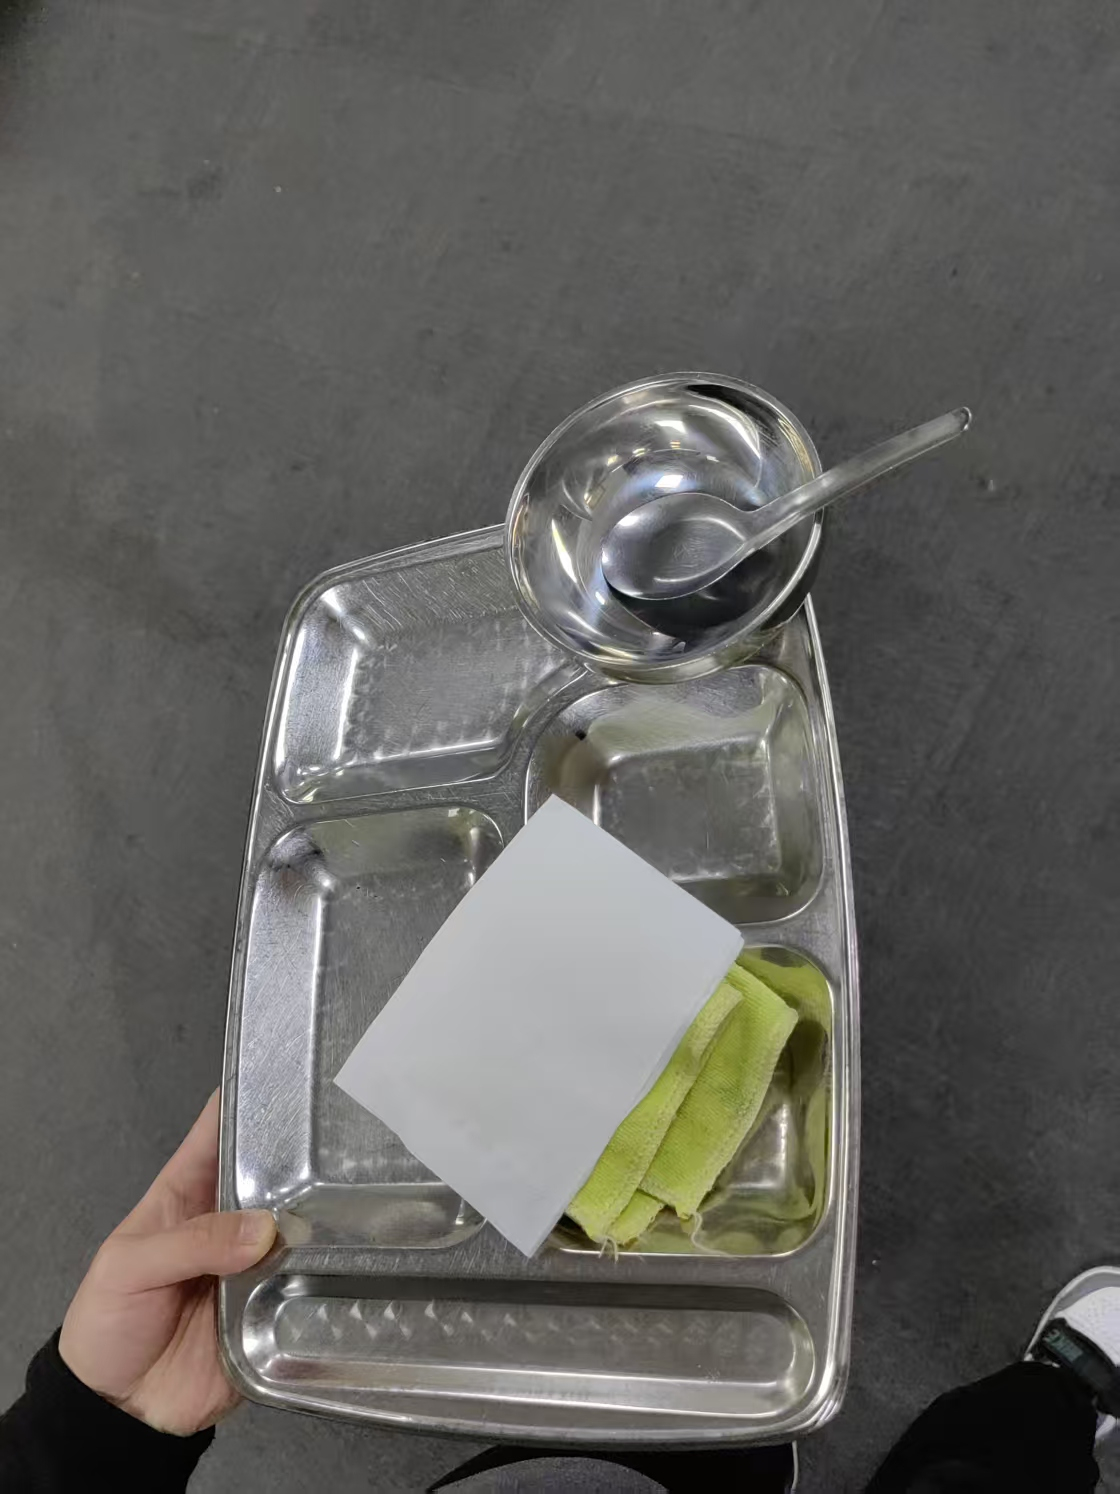mild: (511, 938, 799, 1252)
plate: (213, 478, 862, 1454)
tissue: (333, 790, 744, 1261)
